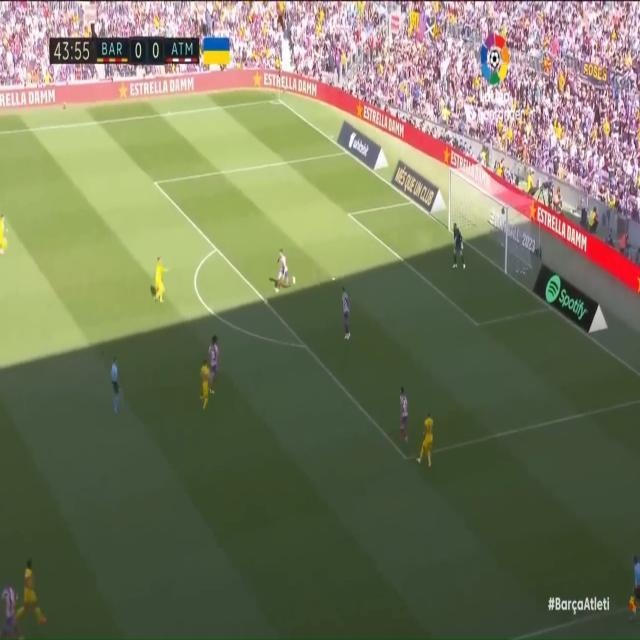ball: (262, 295, 272, 308)
goalkeeper: (444, 216, 470, 279)
player: (20, 558, 50, 633), (0, 559, 24, 640), (338, 291, 364, 349), (417, 411, 439, 471), (275, 246, 297, 297), (394, 389, 412, 446), (194, 358, 212, 414), (207, 333, 224, 390), (152, 257, 170, 305), (0, 205, 11, 266)
referee: (107, 353, 124, 415), (628, 546, 640, 620)
